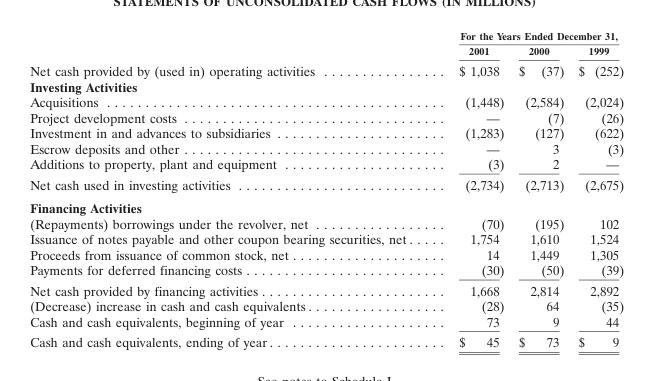table: (29, 29, 623, 349)
table column: (29, 29, 434, 349), (434, 29, 510, 349), (510, 29, 570, 349), (570, 29, 623, 349)
table column header: (29, 29, 623, 59)
table projected row header: (29, 195, 623, 215), (29, 78, 623, 93)
table row: (29, 173, 623, 195), (29, 195, 623, 215), (29, 59, 623, 78), (29, 155, 623, 173), (29, 261, 623, 279), (29, 279, 623, 297), (29, 313, 623, 331), (29, 331, 623, 349), (29, 43, 623, 59), (29, 93, 623, 109), (29, 124, 623, 140), (29, 230, 623, 246), (29, 297, 623, 313), (29, 78, 623, 93), (29, 109, 623, 124), (29, 140, 623, 155), (29, 215, 623, 230), (29, 246, 623, 261), (29, 29, 623, 43)
table spanning cell: (434, 29, 623, 43)
